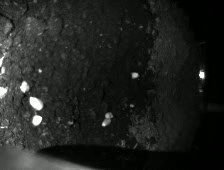corn: (29, 96, 43, 111), (31, 114, 43, 127), (101, 119, 112, 127), (105, 112, 113, 119), (131, 72, 139, 79)
